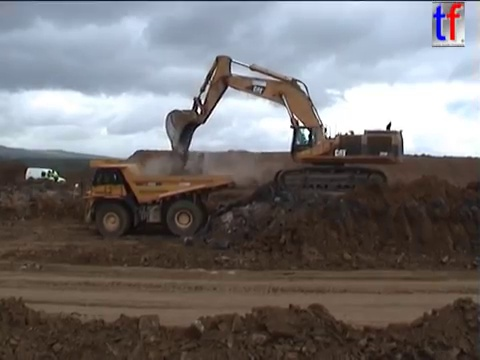excavator: (162, 53, 408, 202)
truck: (71, 156, 234, 238)
worker: (50, 167, 60, 187), (45, 167, 52, 185)
